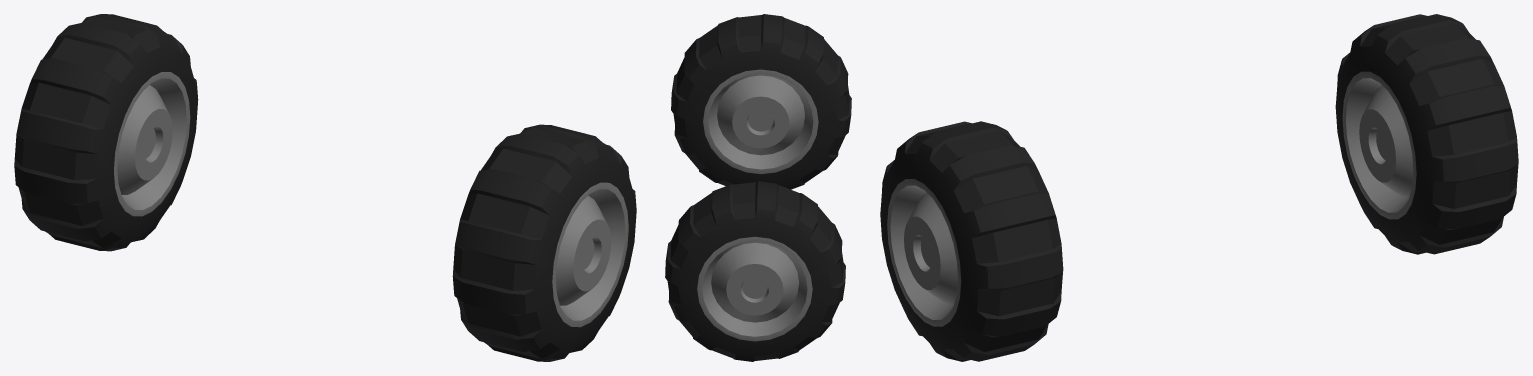
File: backwheels.003_lev1.glb
The picture shows the model from 3 angles, left to right: view 1: azimuth 30°, elevation 25°; view 2: azimuth 150°, elevation 25°; view 3: azimuth 270°, elevation 25°; orthographic projection. The views are drawn at different scales.
Visible parts, largest first — view 1: backwheels.003_lev1; view 2: backwheels.003_lev1; view 3: backwheels.003_lev1.
Boxes of the visible parts, x1,y1,x2,y2 form: backwheels.003_lev1: [14, 14, 636, 361]; backwheels.003_lev1: [665, 14, 851, 361]; backwheels.003_lev1: [880, 14, 1518, 361].
Size of the model in its own units: 1.85 by 0.8967 by 2.41.
Materials: 1 (1 with a texture image).
